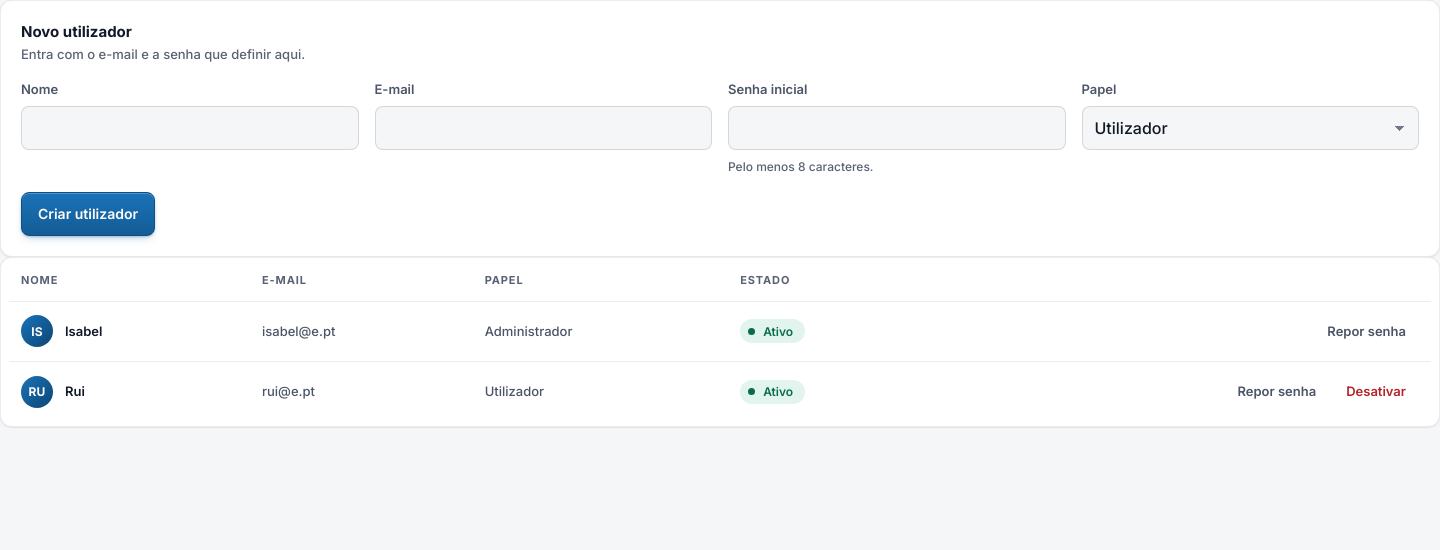
Test: UsersManager › cria um utilizador e acrescenta-o à lista
Type "Ana" into the field labelled "Nome" at (190, 128), box [21,106,358,150]
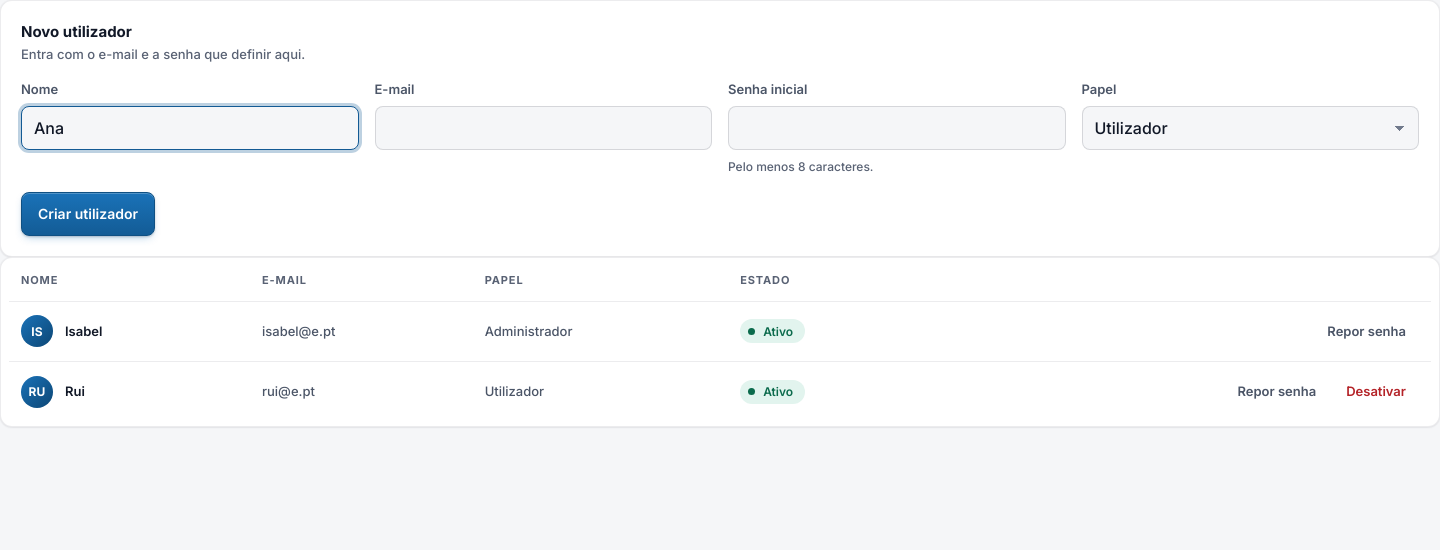
Type "ana@e.pt" into the field labelled "E-mail" at (543, 128), box [374,106,712,150]
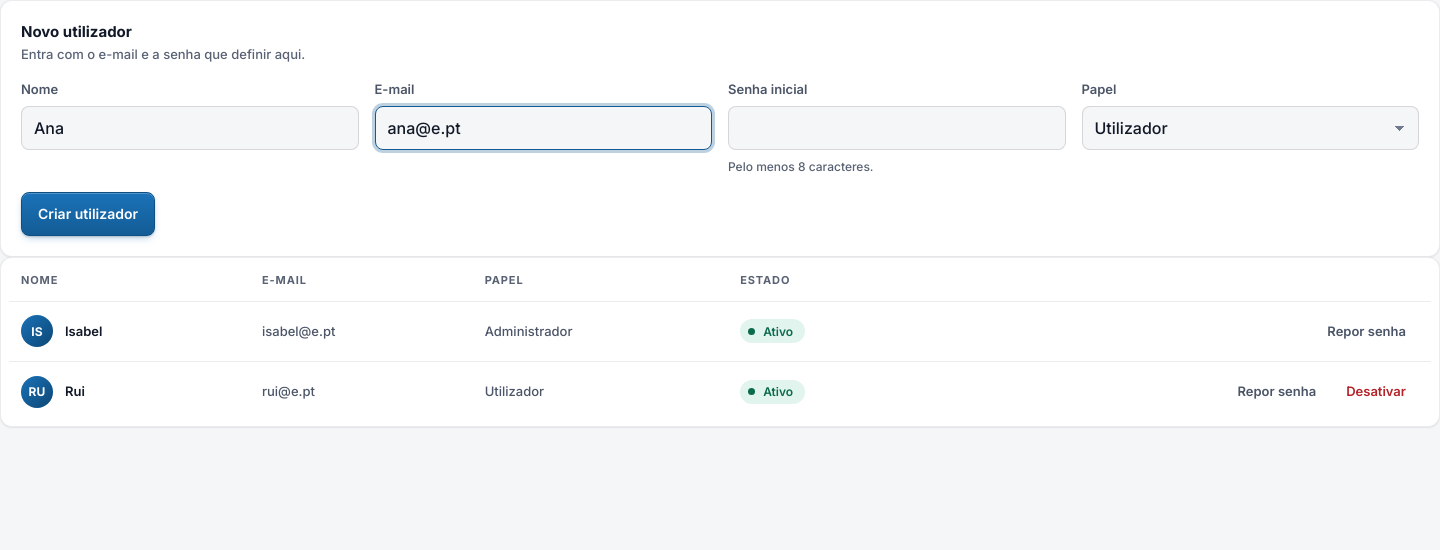
Type "Senha-da-Ana-1" into the password field labelled "Senha inicial" at (897, 128), box [728,106,1066,150]
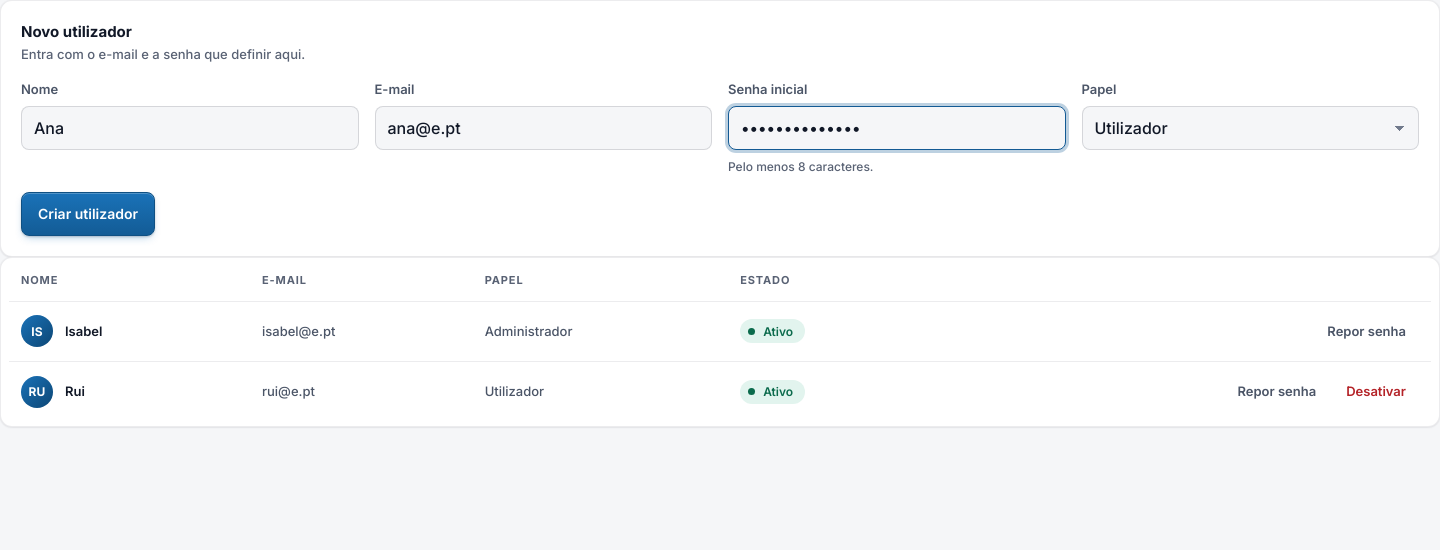
Click the button "Criar utilizador" at (88, 214), box [21,192,155,236]
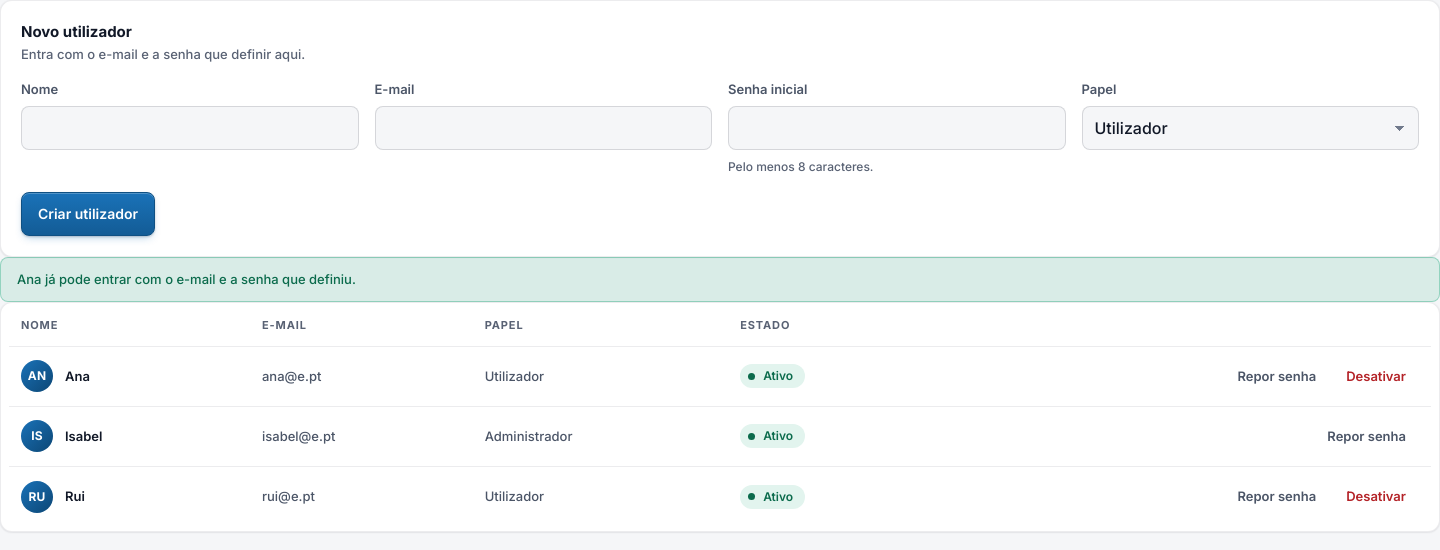
Result: the cell "Ana" is shown at [9,347,250,407]
Result: the message shows "Ana já pode entrar" at [17,271,356,287]
